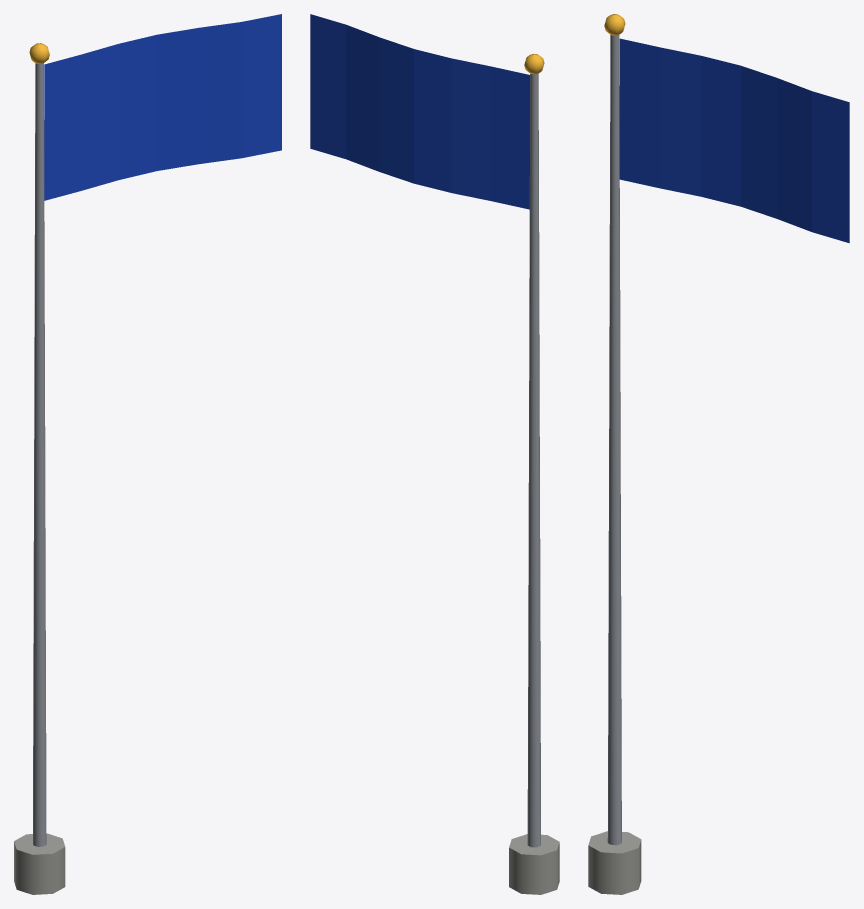
The model's file is SM_Flagpole_Blue.fbx.
The picture shows the model from 3 angles, left to right: view 1: azimuth 30°, elevation 25°; view 2: azimuth 150°, elevation 25°; view 3: azimuth 330°, elevation 25°; orthographic projection. The views are drawn at different scales.
Visible parts, largest first — view 1: SM_Flagpole_Blue; view 2: SM_Flagpole_Blue; view 3: SM_Flagpole_Blue.
Part boxes in pixels (x1=…): SM_Flagpole_Blue: x1=14, y1=14, x2=281, y2=894; SM_Flagpole_Blue: x1=310, y1=14, x2=559, y2=894; SM_Flagpole_Blue: x1=588, y1=14, x2=849, y2=894.
Size of what is drawn, in the model's own units: 3.36 by 10.47 by 0.6.
